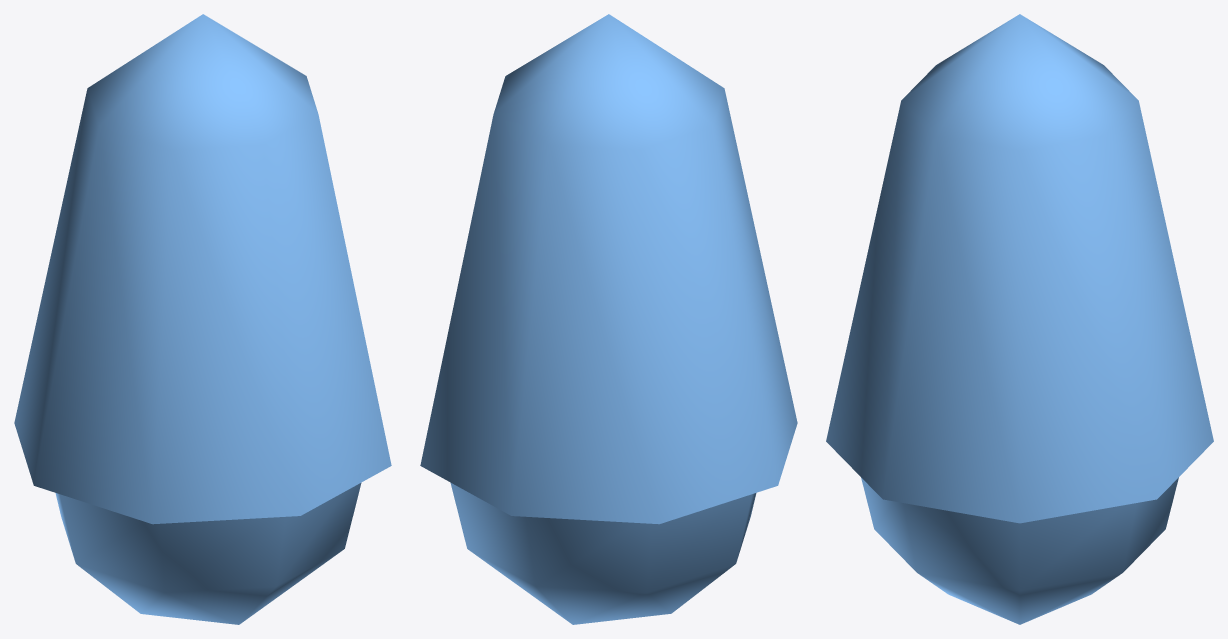
File: male_model.glb
3 views of the same model, side by side, from view 1: azimuth 30°, elevation 25°; view 2: azimuth 150°, elevation 25°; view 3: azimuth 270°, elevation 25° (orthographic).
Parts seen in each view (by area): view 1: male_model; view 2: male_model; view 3: male_model.
Part boxes in pixels (x1,y1,x2,y2): male_model: (14, 14, 391, 624); male_model: (420, 14, 797, 624); male_model: (826, 14, 1213, 624).
Size of the model in its own units: 35.53 by 60.23 by 35.53.
